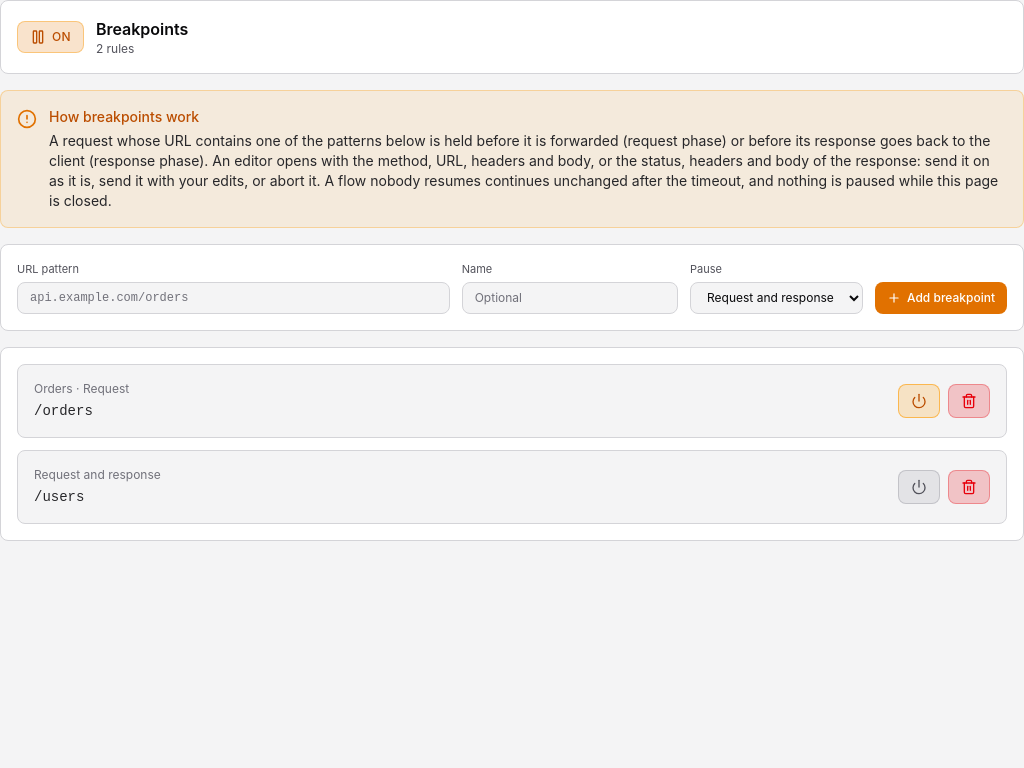
Test: Breakpoints tab › refuses an empty pattern, toggles and removes rules
This screenshot has width=1024, height=768.
Later steps or results of the test are not shown.
Expected: the text "/orders" is shown, [34, 402, 93, 418]
Step 1. Click the button "Add breakpoint" → coordinates (941, 298), box [875, 282, 1007, 314]
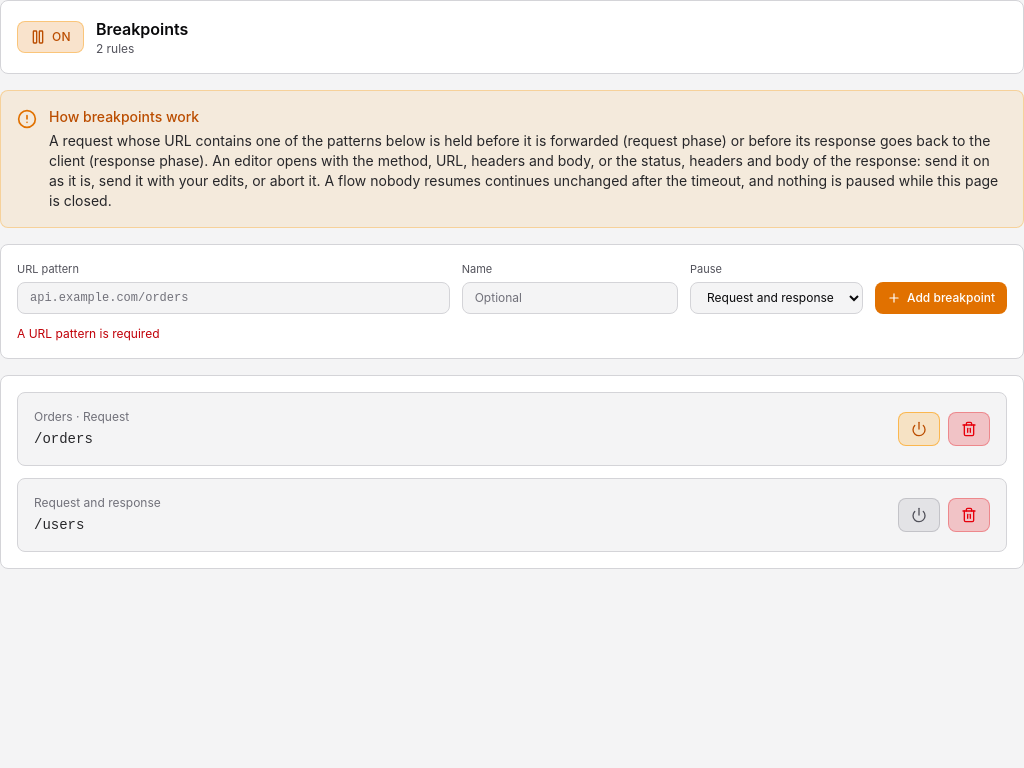
Expected: the text "A URL pattern is required" is shown, [17, 326, 160, 340]
